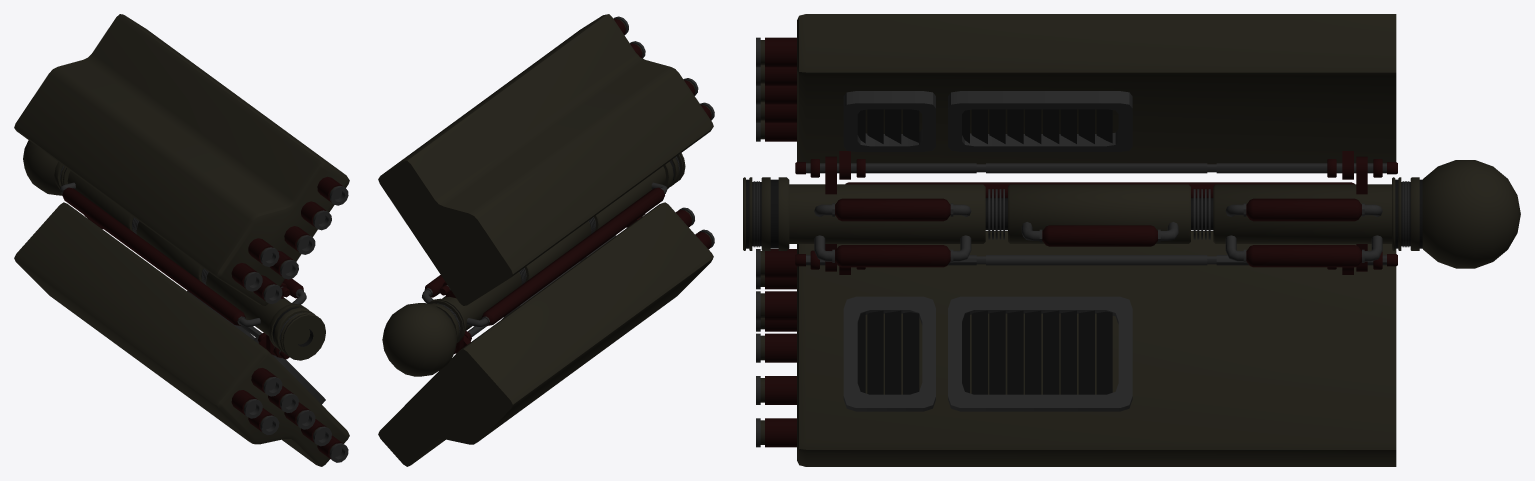
Rendered from Missile_Pod.FBX.
3 renders of one model, left to right at view 1: azimuth 30°, elevation 25°; view 2: azimuth 150°, elevation 25°; view 3: azimuth 270°, elevation 25°, orthographic. The views are drawn at different scales.
Parts seen in each view (by area): view 1: Sphere001; view 2: Sphere001; view 3: Sphere001.
Part boxes in pixels (<box>): Sphere001: <box>14,14,349,466</box>; Sphere001: <box>378,14,714,466</box>; Sphere001: <box>743,14,1520,466</box>.
Size of the model in its own units: 49.88 by 108 by 169.
